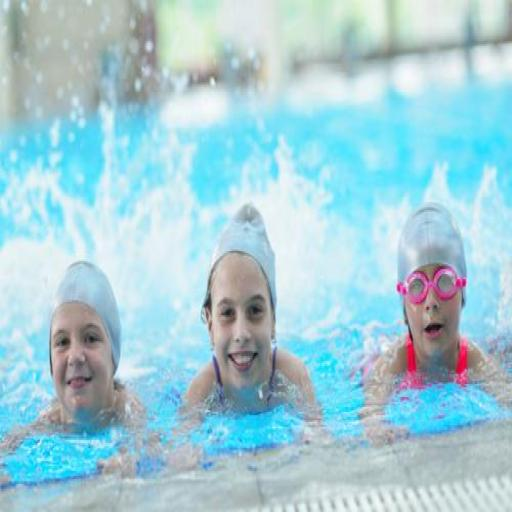swimming: (357, 200, 511, 450), (173, 200, 325, 453), (0, 258, 155, 494)
